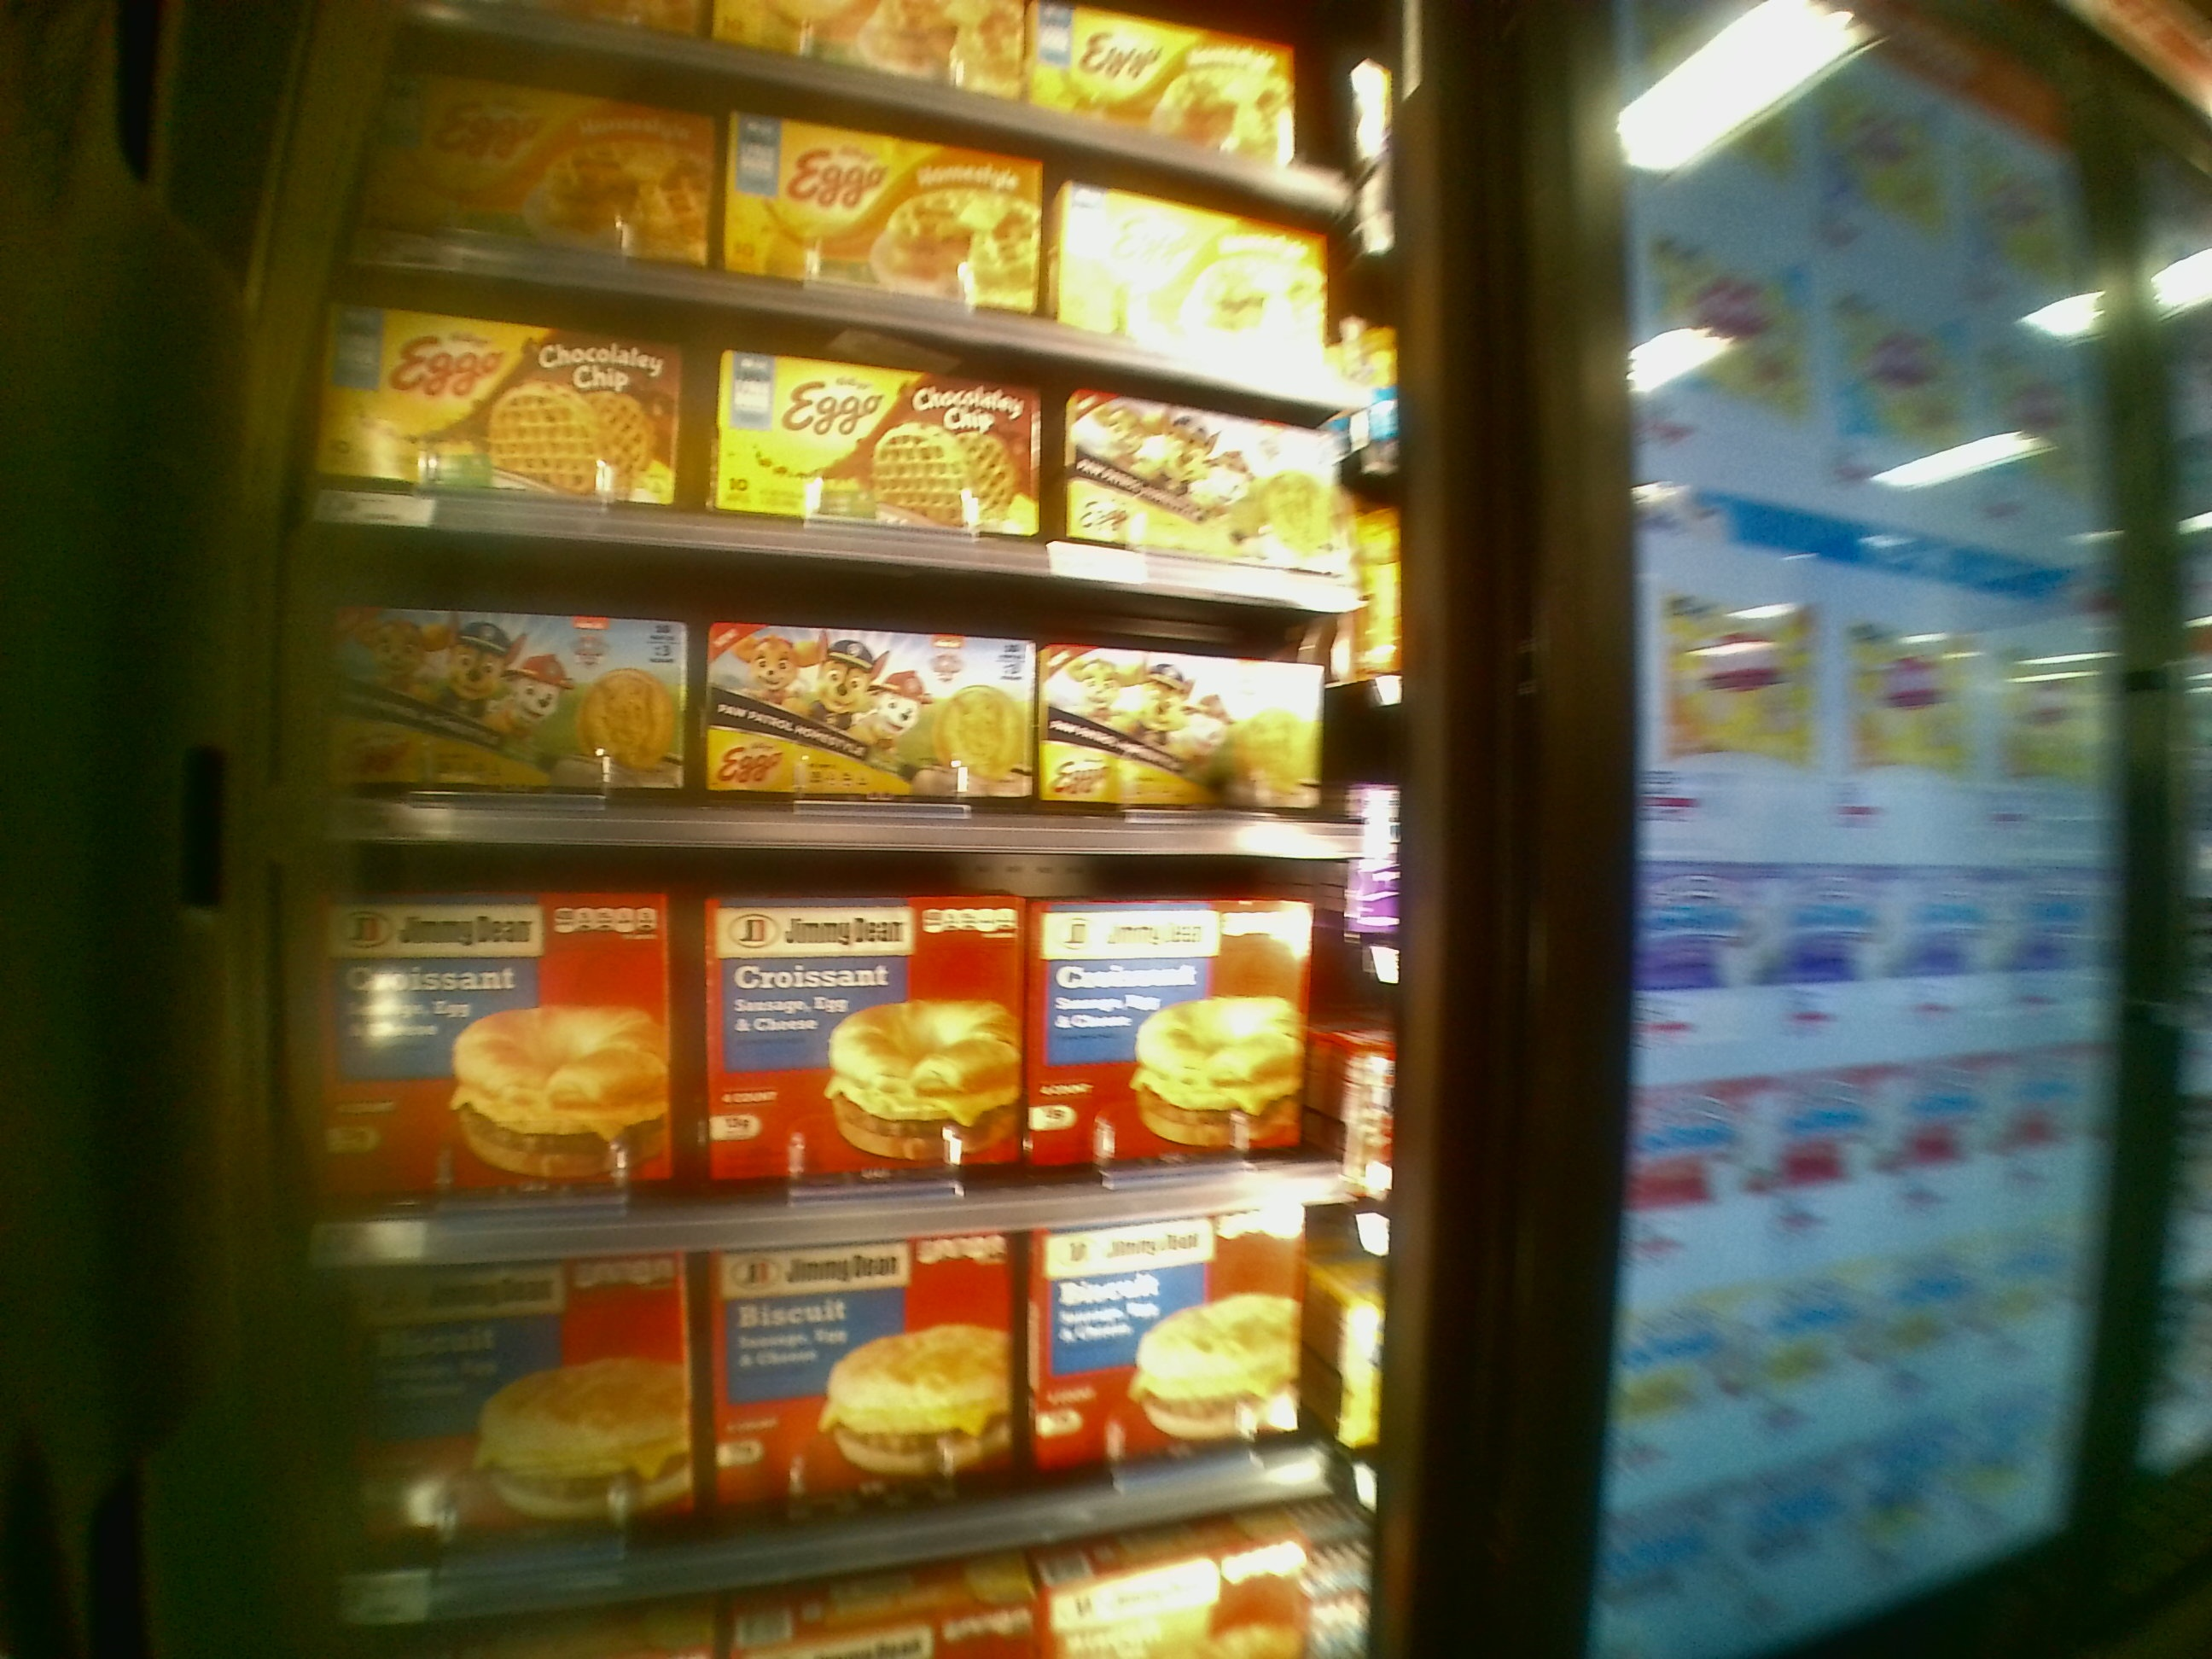shelf: (307, 857, 1416, 1270), (296, 265, 1355, 606), (303, 521, 1406, 849)
